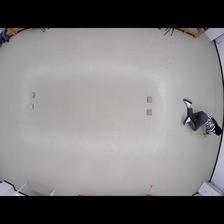fall: (179, 98, 221, 138)
